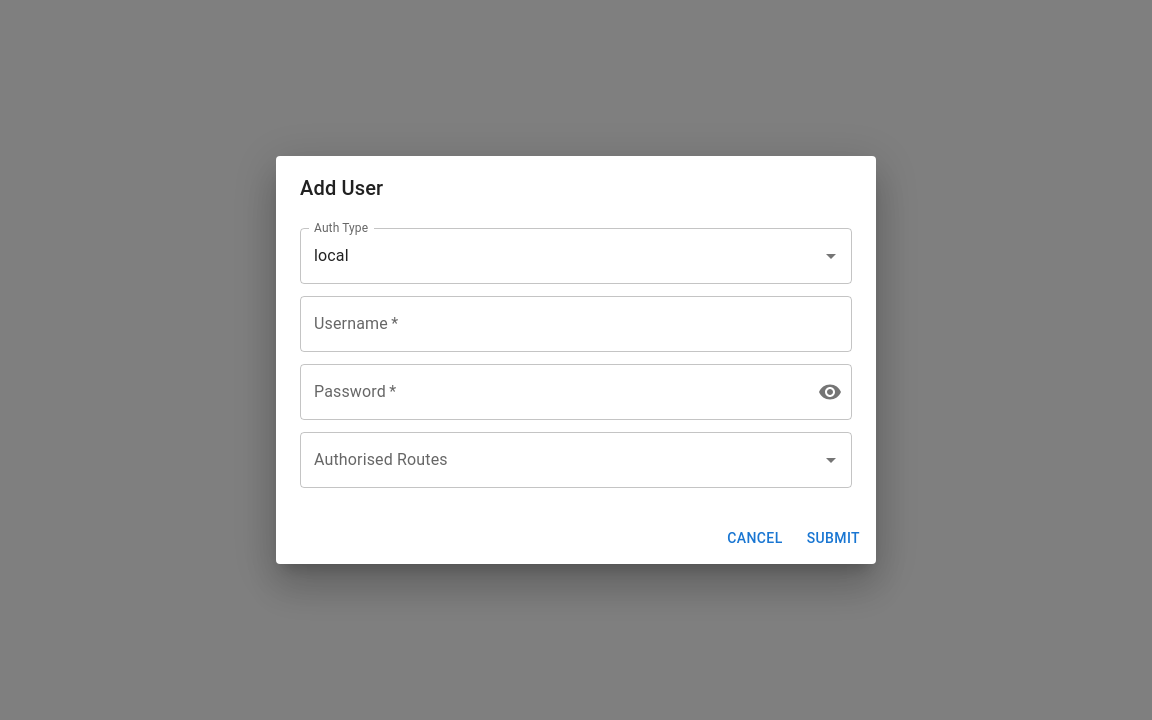
Scenario: userDialogue › add dialog › does not display password field when auth_type is not "local"
Type "new_user" into the field labelled "Username *".
click(576, 324); type("new_user")  # box x1=300 y1=296 x2=852 y2=352
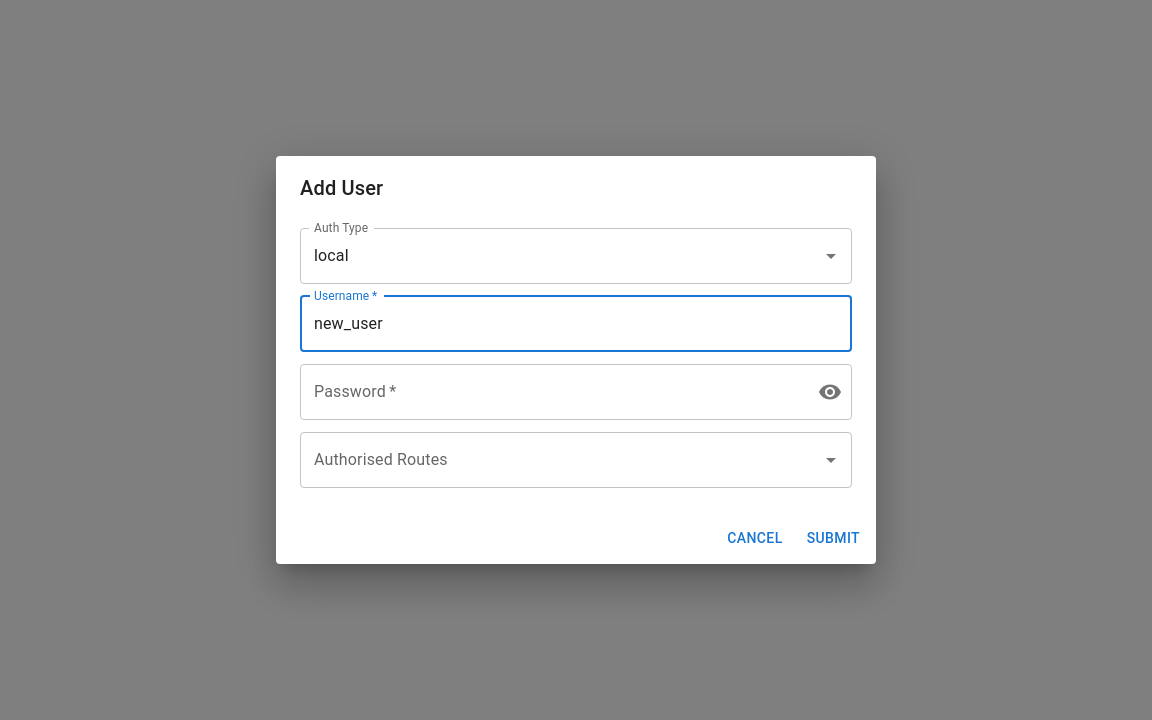
Click the dropdown labelled "Auth Type".
click(561, 256)  # box x1=309 y1=237 x2=813 y2=275
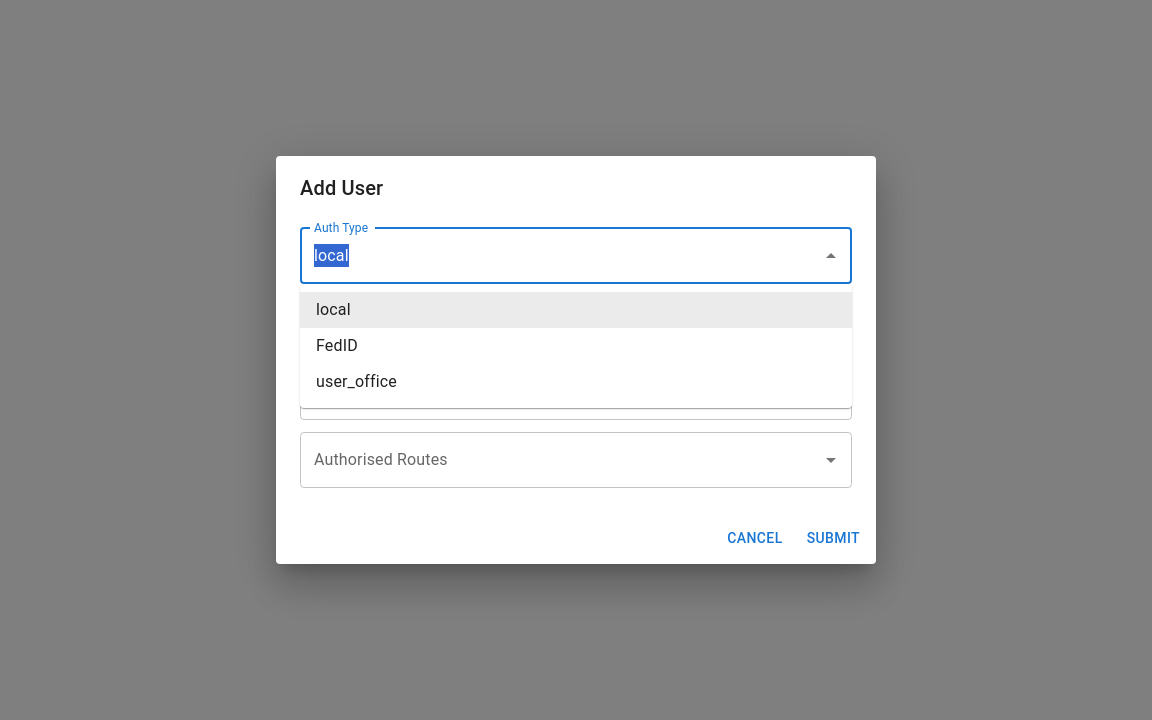
Click the option "FedID".
click(337, 346)  # box x1=316 y1=336 x2=358 y2=355
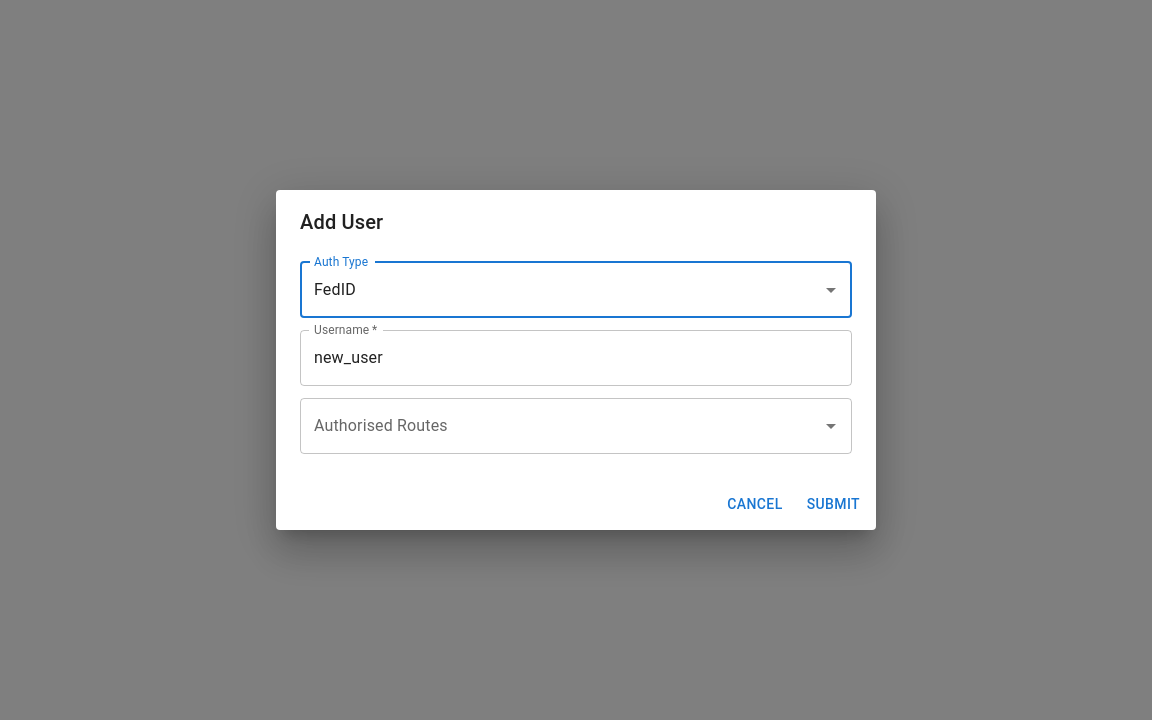
Result: the label labelled "Password *" is gone
